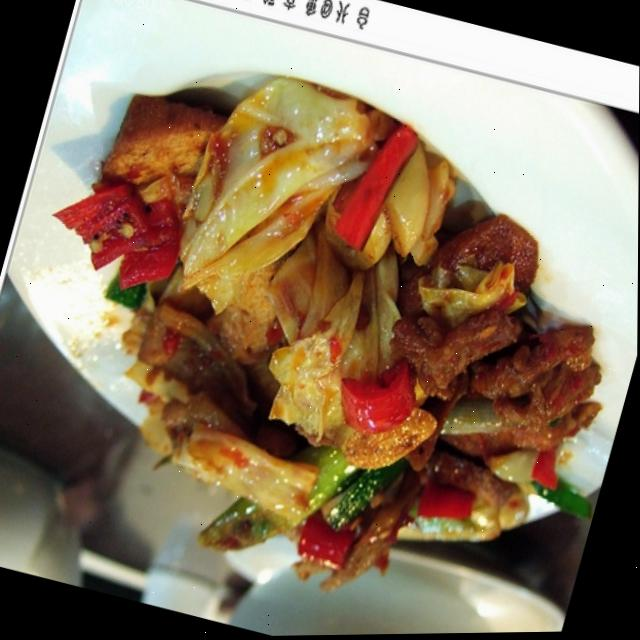猪肉菜式: (0, 0, 640, 638)
